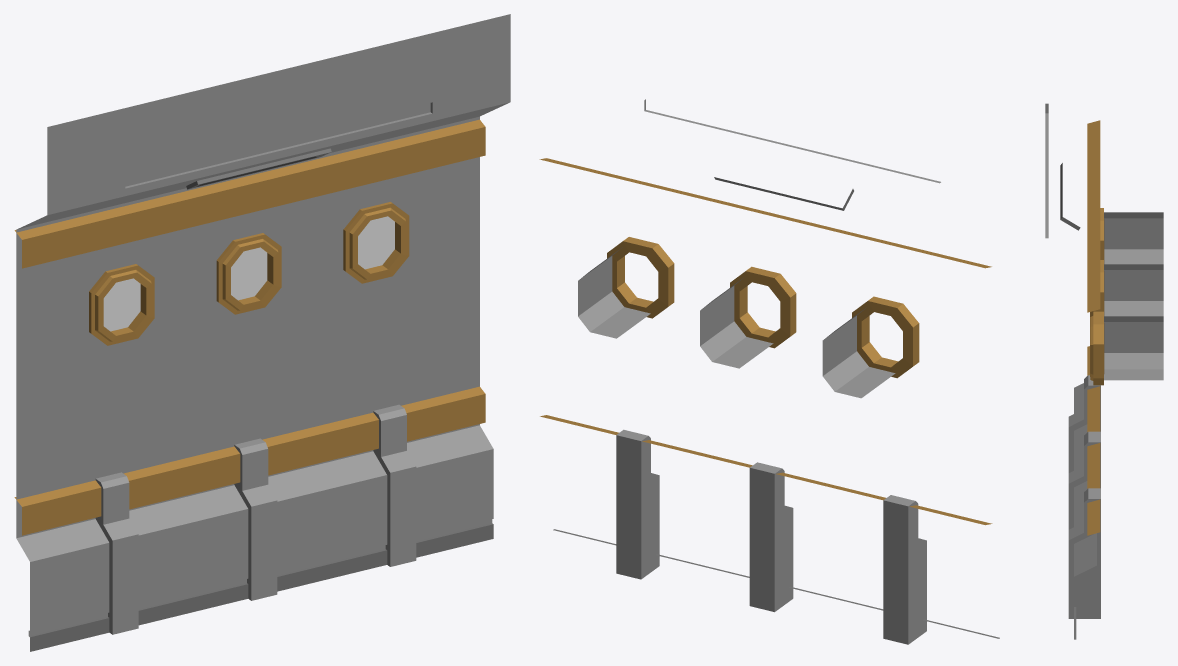
Rendered from quaternius-modular-sci-fi-small-windows-wall-side-a.glb.
3 views of the same model, side by side, from view 1: azimuth 30°, elevation 25°; view 2: azimuth 150°, elevation 25°; view 3: azimuth 270°, elevation 25° (orthographic). The views are drawn at different scales.
Visible parts, largest first — view 1: SmallWindows_Wall_SideA; view 2: SmallWindows_Wall_SideA; view 3: SmallWindows_Wall_SideA.
Part boxes in pixels (x1=…): SmallWindows_Wall_SideA: x1=14, y1=14, x2=510, y2=651; SmallWindows_Wall_SideA: x1=539, y1=99, x2=999, y2=644; SmallWindows_Wall_SideA: x1=1045, y1=103, x2=1163, y2=639.
Bounding box in the file's own units: 4 × 4.43 × 1.06.
